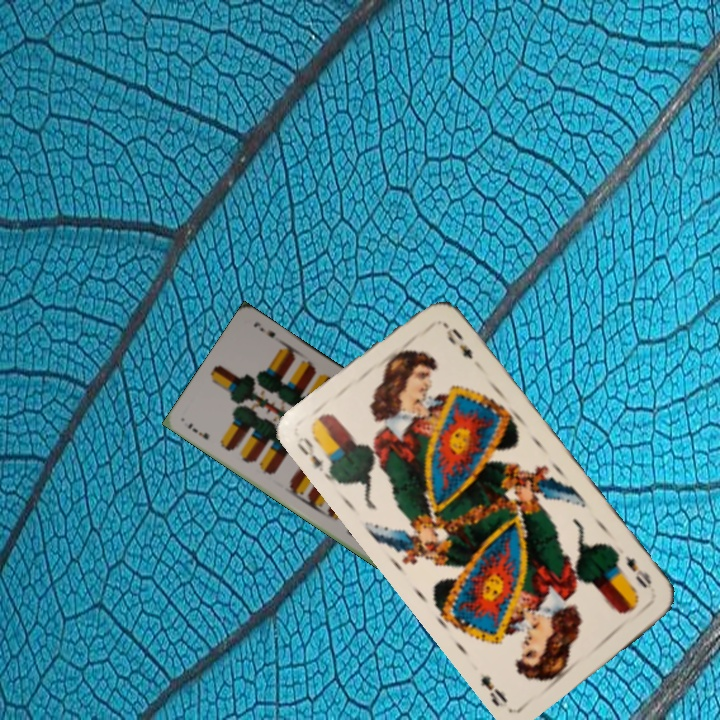E7: (184, 418, 212, 442)
EO: (292, 432, 336, 482), (620, 551, 654, 591)
